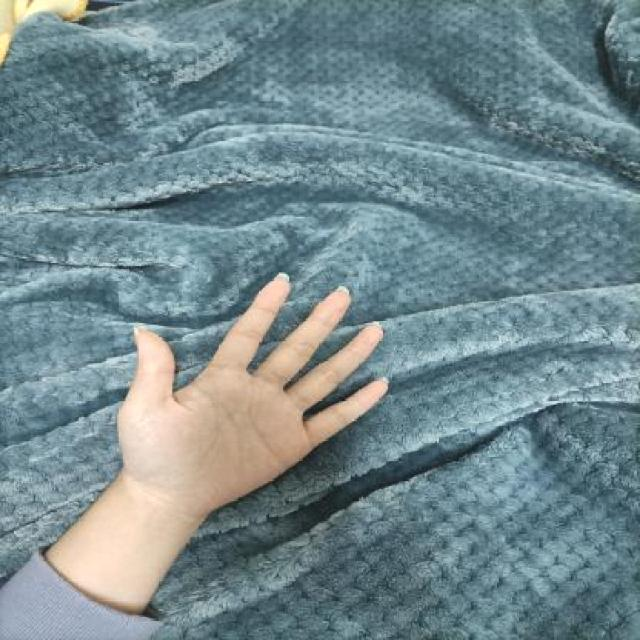no_glove: (98, 261, 400, 522)
